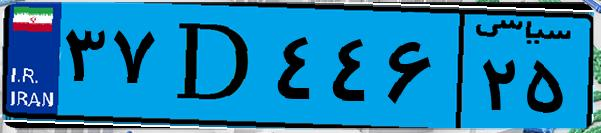2: (475, 38, 525, 113)
3: (57, 26, 110, 100)
4: (270, 28, 330, 110), (330, 28, 385, 110)
5: (525, 38, 570, 115)
6: (385, 28, 445, 110)
7: (110, 28, 158, 98)
D: (158, 12, 270, 120)
